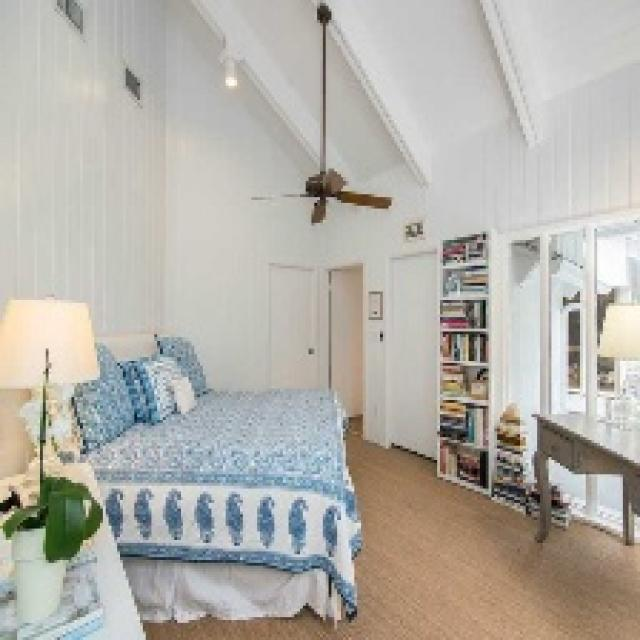Bed: (31, 331, 360, 626)
